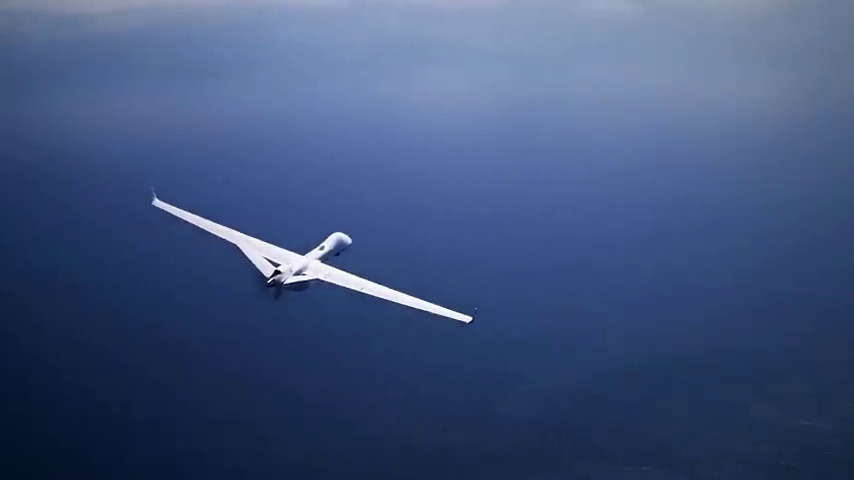military drone: (150, 187, 478, 324)
